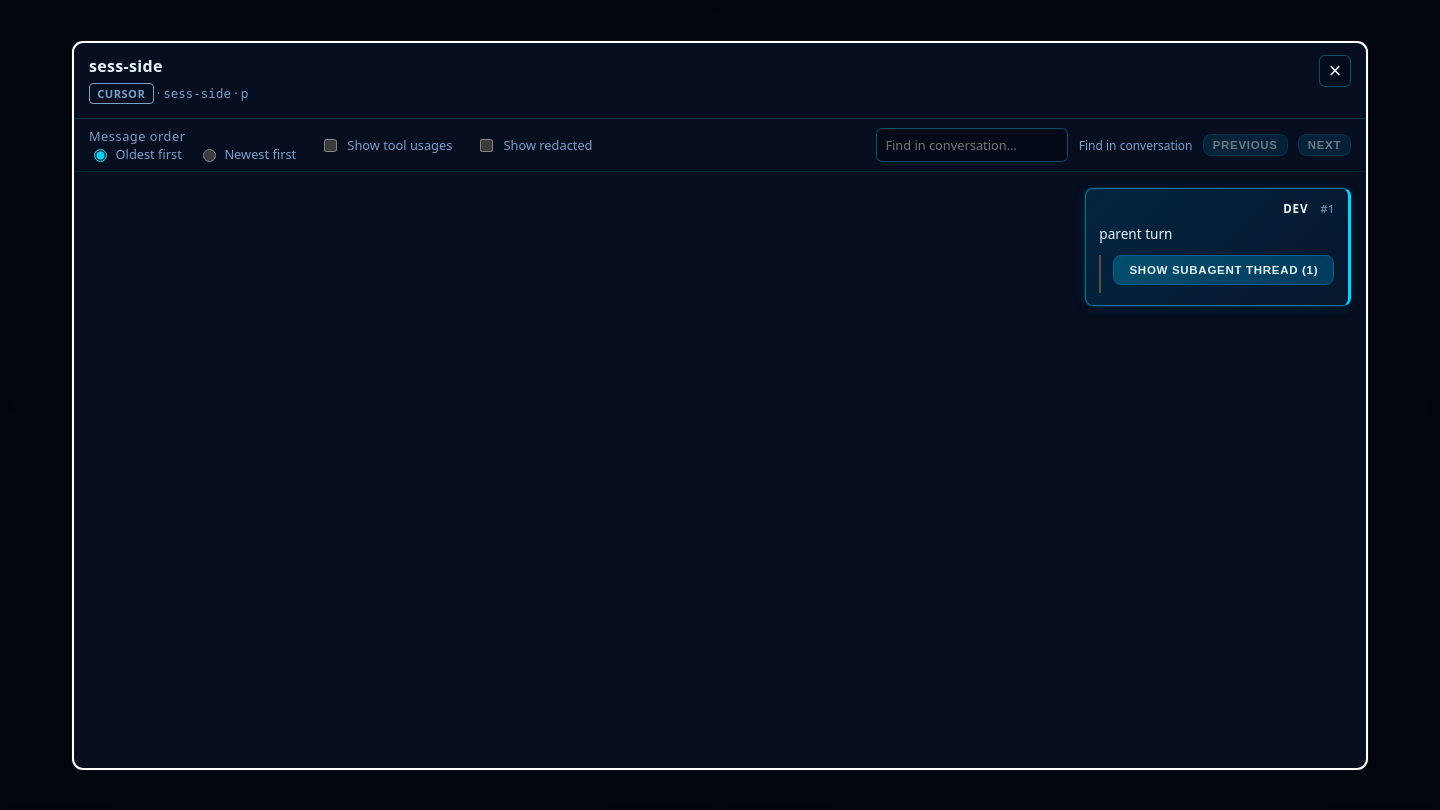
Test: ConversationModal in-modal find › expands sidechain and scrolls to a child match
Expected: the text "parent turn" is shown, [1099,224,1172,243]
In the search field labelled "Find in conversation": (972, 145) [876,128,1068,162], type "sidechain"
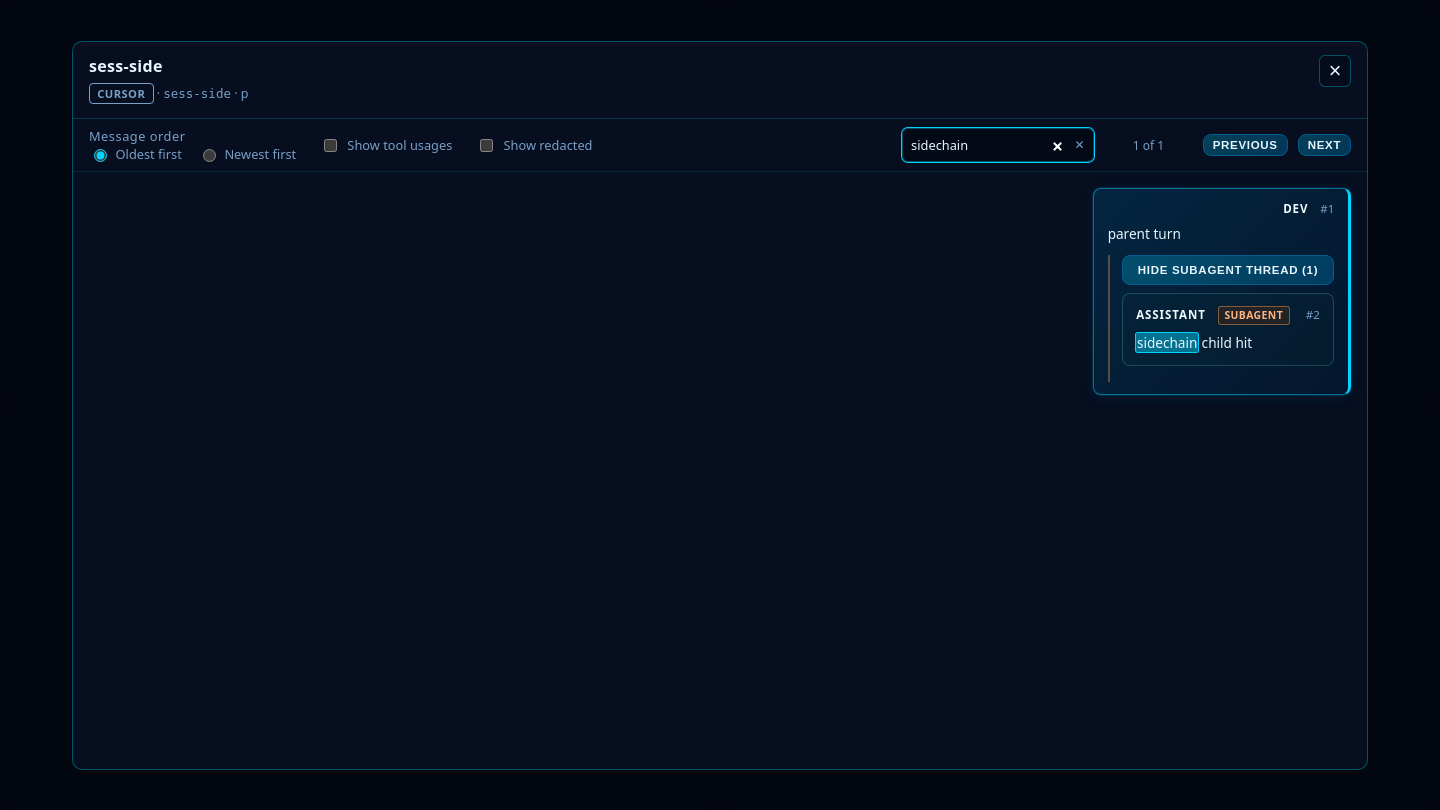
Expected: the text "1 of 1" is shown, [1133,137,1164,154]
Expected: the button "Hide subagent thread (1)" is expanded, [1122,255,1334,285]
Expected: the text "child hit" is shown, [1198,333,1252,352]
